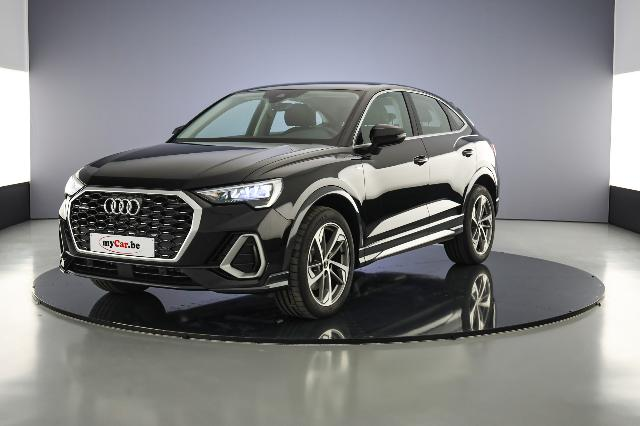audi: (57, 82, 501, 322)
